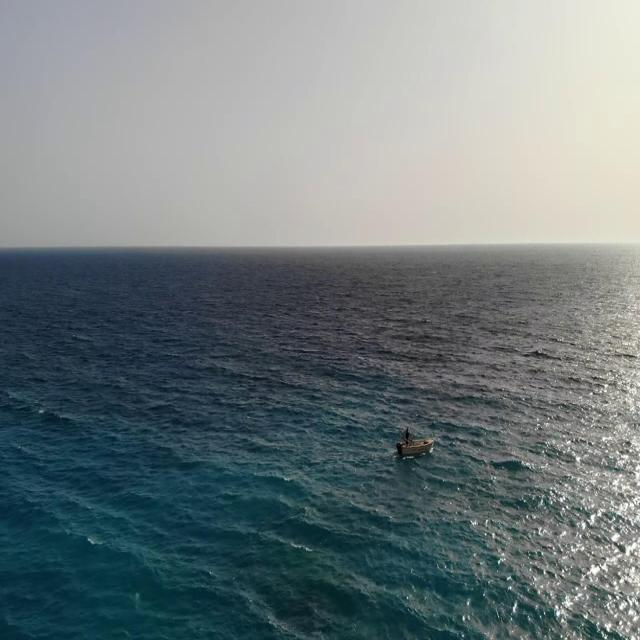boat: (395, 423, 435, 457)
